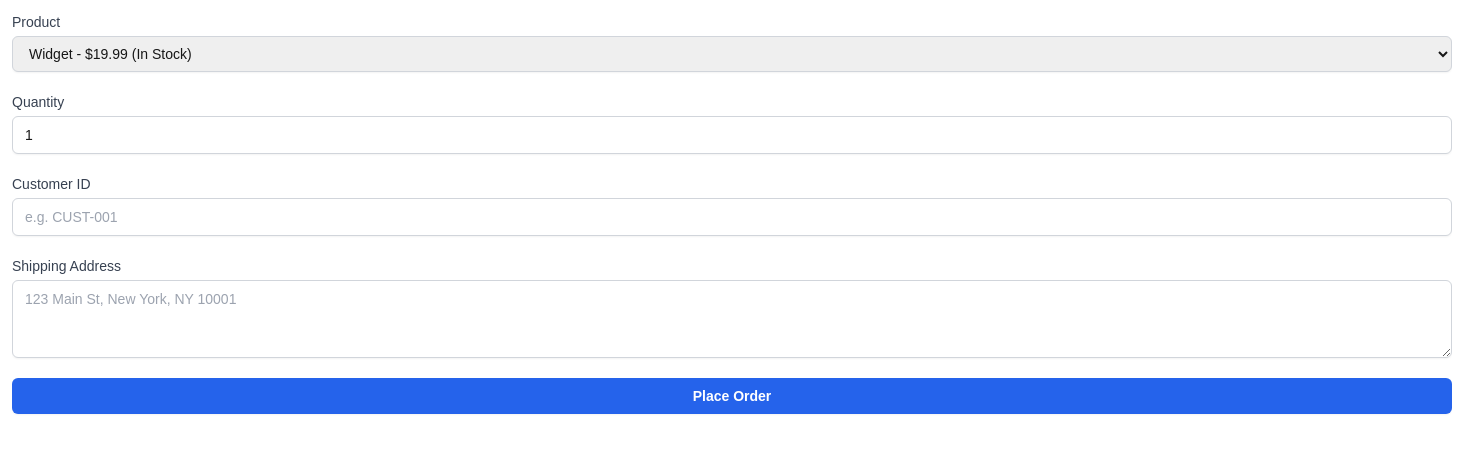
Scenario: OrderForm › maps Zod fieldErrors from the API into inline field errors
Type "X" into the field labelled "Customer ID" at (732, 217), box [12, 198, 1452, 236]
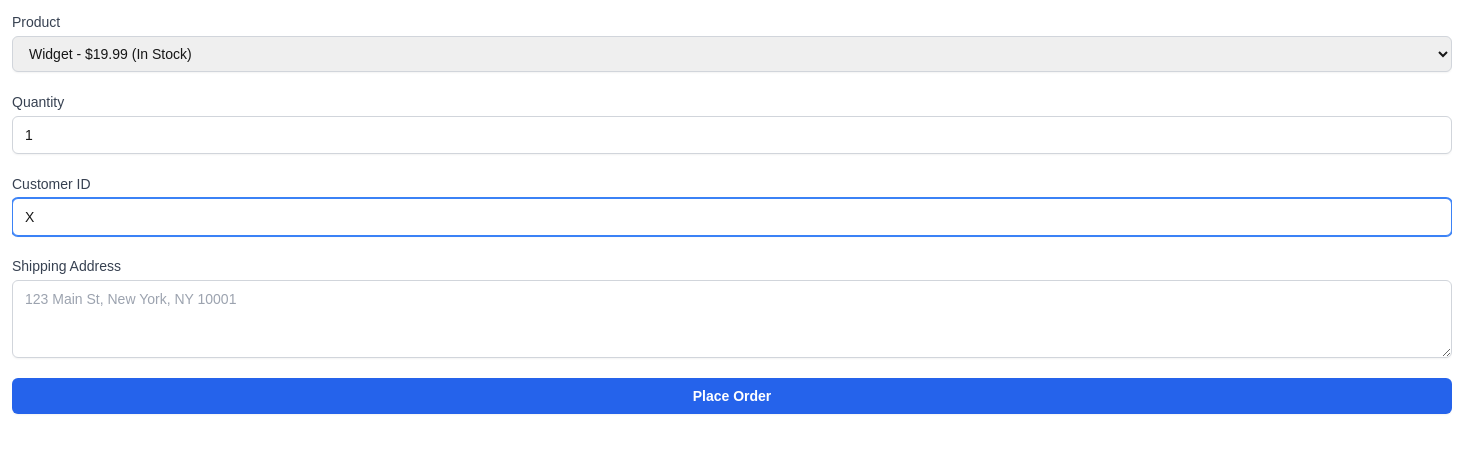
Type "123 Main St" into the text box labelled "Shipping Address" at (732, 319), box [12, 280, 1452, 358]
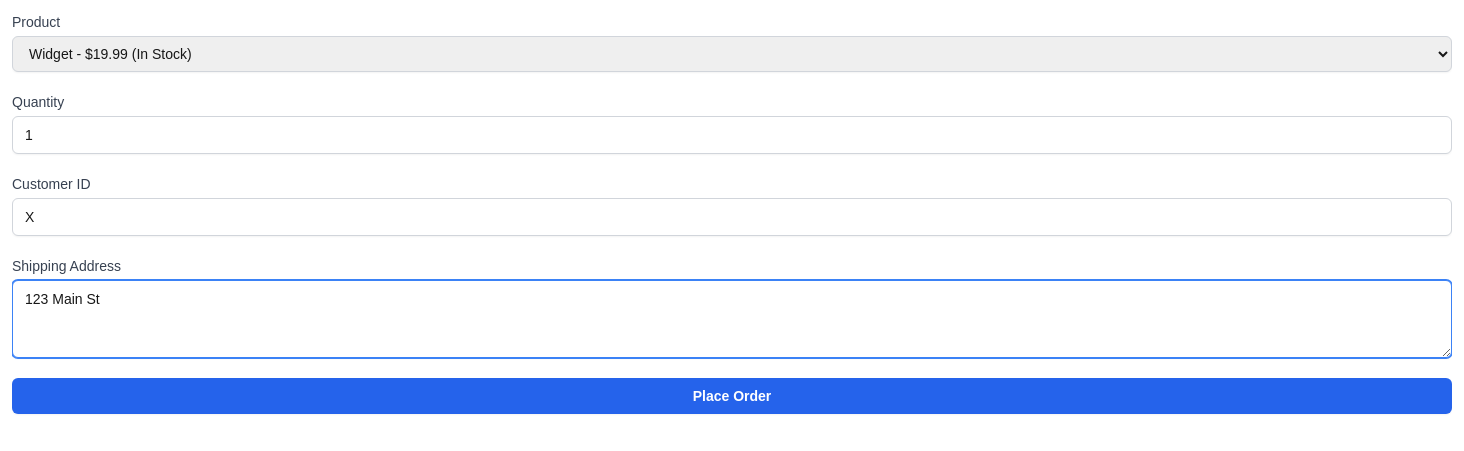
Click the button "Place Order" at (732, 396), box [12, 378, 1452, 414]
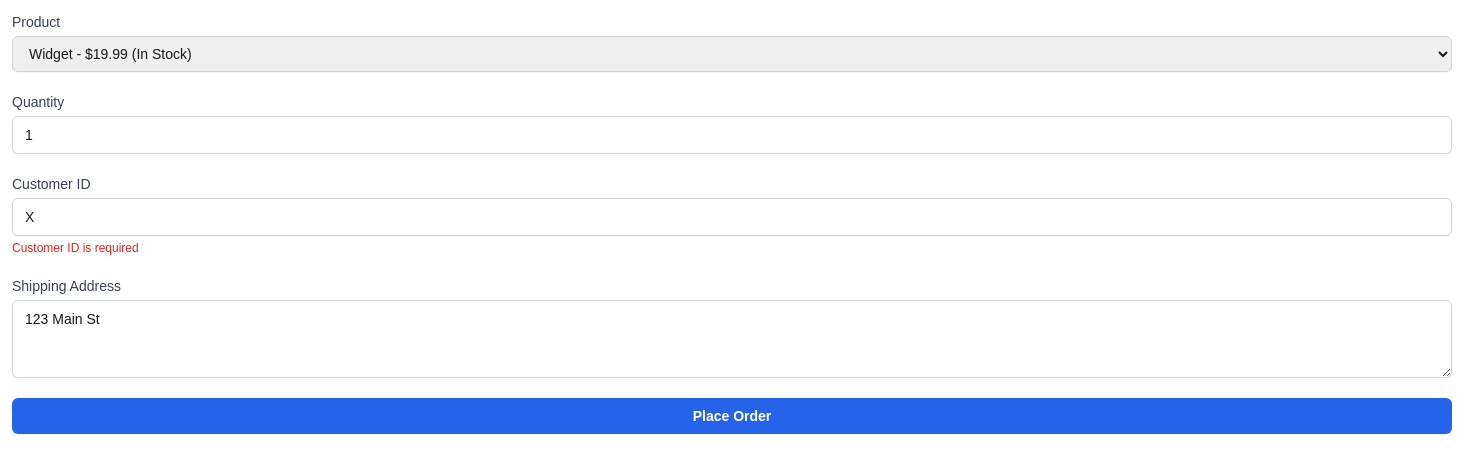
Expected: the text "Customer ID is required" is shown, [12, 241, 139, 255]
